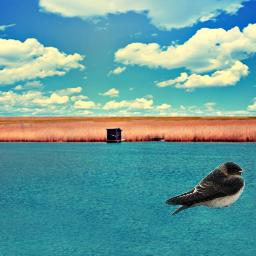Swallow: (165, 161, 246, 217)
